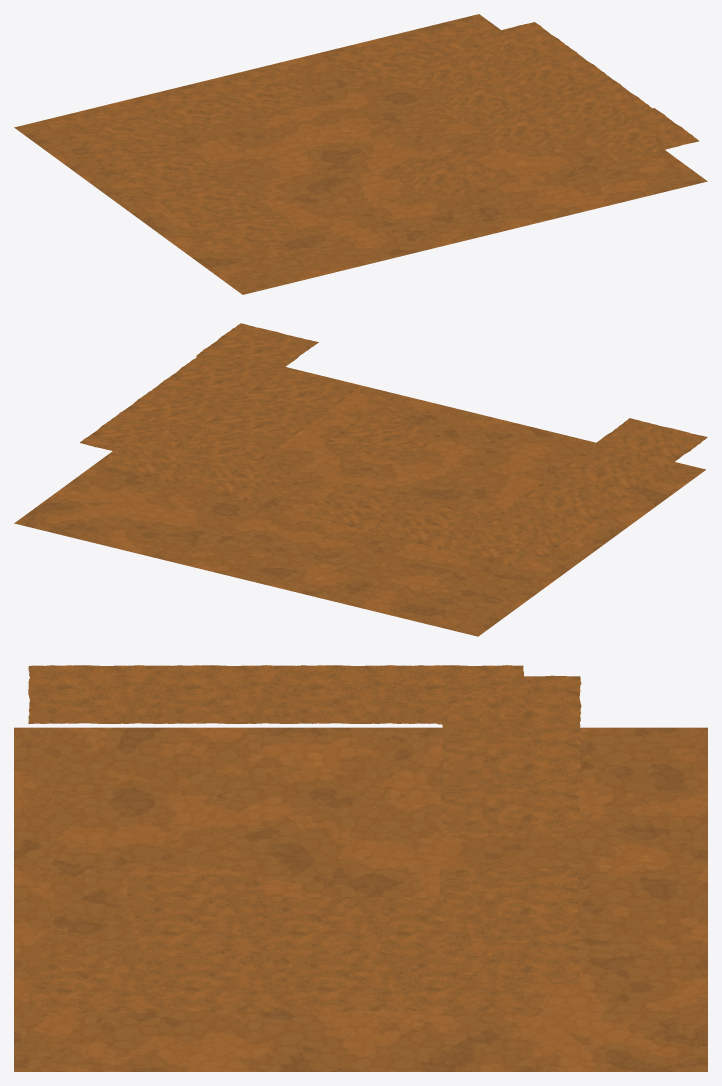
The model's file is Floor_Ruin7.fbx.
3 views of the same model, one above another, from view 1: azimuth 30°, elevation 25°; view 2: azimuth 150°, elevation 25°; view 3: azimuth 270°, elevation 25° (orthographic). The views are drawn at different scales.
Visible parts, largest first — view 1: UpperFloor; view 2: UpperFloor; view 3: UpperFloor.
Part boxes in pixels (left/top/right/bottom): UpperFloor: left=14, top=14, right=707, bottom=294; UpperFloor: left=14, top=323, right=707, bottom=636; UpperFloor: left=14, top=665, right=707, bottom=1071.
Bounding box in the file's own units: 5922 × 452 × 4966.
